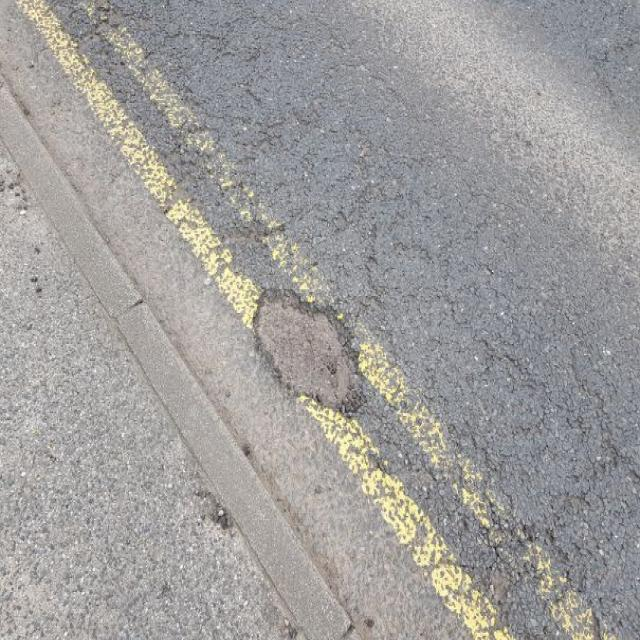pothole: (248, 280, 368, 422)
